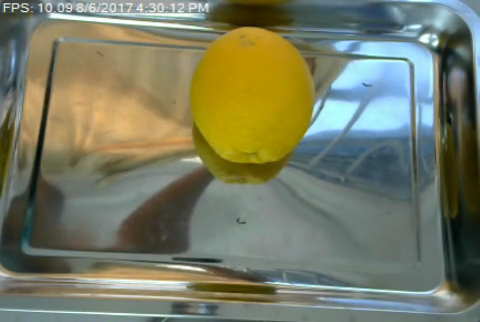Orange: (190, 26, 315, 165)
